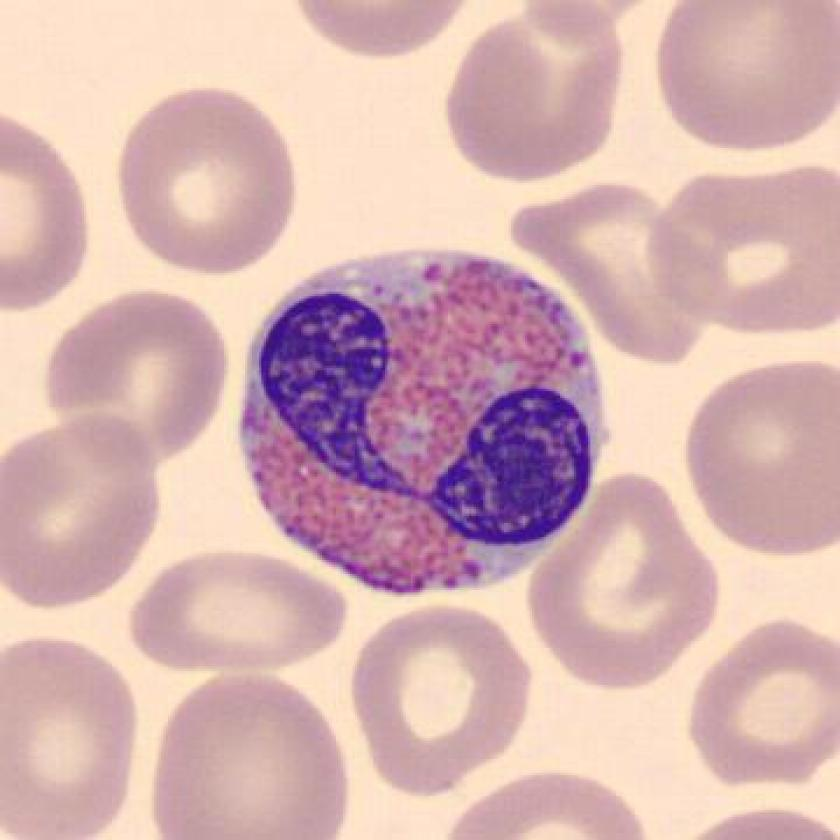eosinophil: (230, 237, 624, 610)
